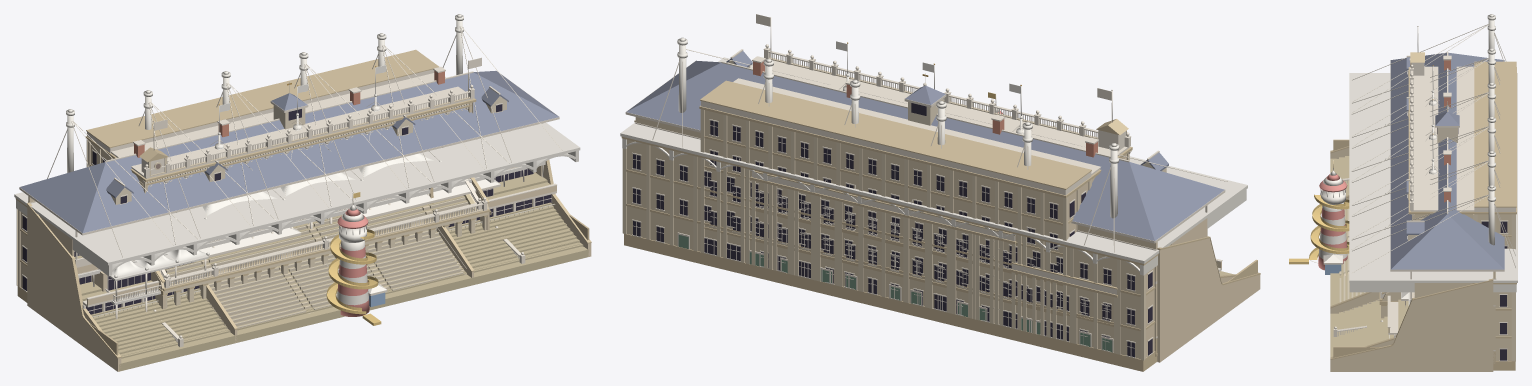
The model's file is goodwood_stands.glb.
3 views of the same model, side by side, from view 1: azimuth 30°, elevation 25°; view 2: azimuth 150°, elevation 25°; view 3: azimuth 270°, elevation 25° (orthographic). The views are drawn at different scales.
Parts seen in each view (by area): view 1: goodwood_mast, goodwood_victorian, goodwood_balcony, goodwood_tent, goodwood_helter_skelter; view 2: goodwood_balcony, goodwood_mast, goodwood_victorian, goodwood_tent; view 3: goodwood_victorian, goodwood_mast, goodwood_balcony, goodwood_helter_skelter, goodwood_tent.
Boxes of the visible parts, <box> form: goodwood_mast: <box>14,14,590,371</box>; goodwood_victorian: <box>19,66,591,371</box>; goodwood_balcony: <box>85,49,525,347</box>; goodwood_tent: <box>92,65,474,343</box>; goodwood_helter_skelter: <box>326,192,387,325</box>; goodwood_balcony: <box>699,14,1132,349</box>; goodwood_mast: <box>620,37,1258,371</box>; goodwood_victorian: <box>625,49,1260,362</box>; goodwood_tent: <box>750,41,1117,365</box>; goodwood_victorian: <box>1330,52,1504,371</box>; goodwood_mast: <box>1330,14,1517,370</box>; goodwood_balcony: <box>1333,26,1516,336</box>; goodwood_helter_skelter: <box>1289,160,1349,274</box>; goodwood_tent: <box>1330,65,1439,313</box>.
Bounding box in the file's own units: 85.5 × 33.35 × 39.4.
